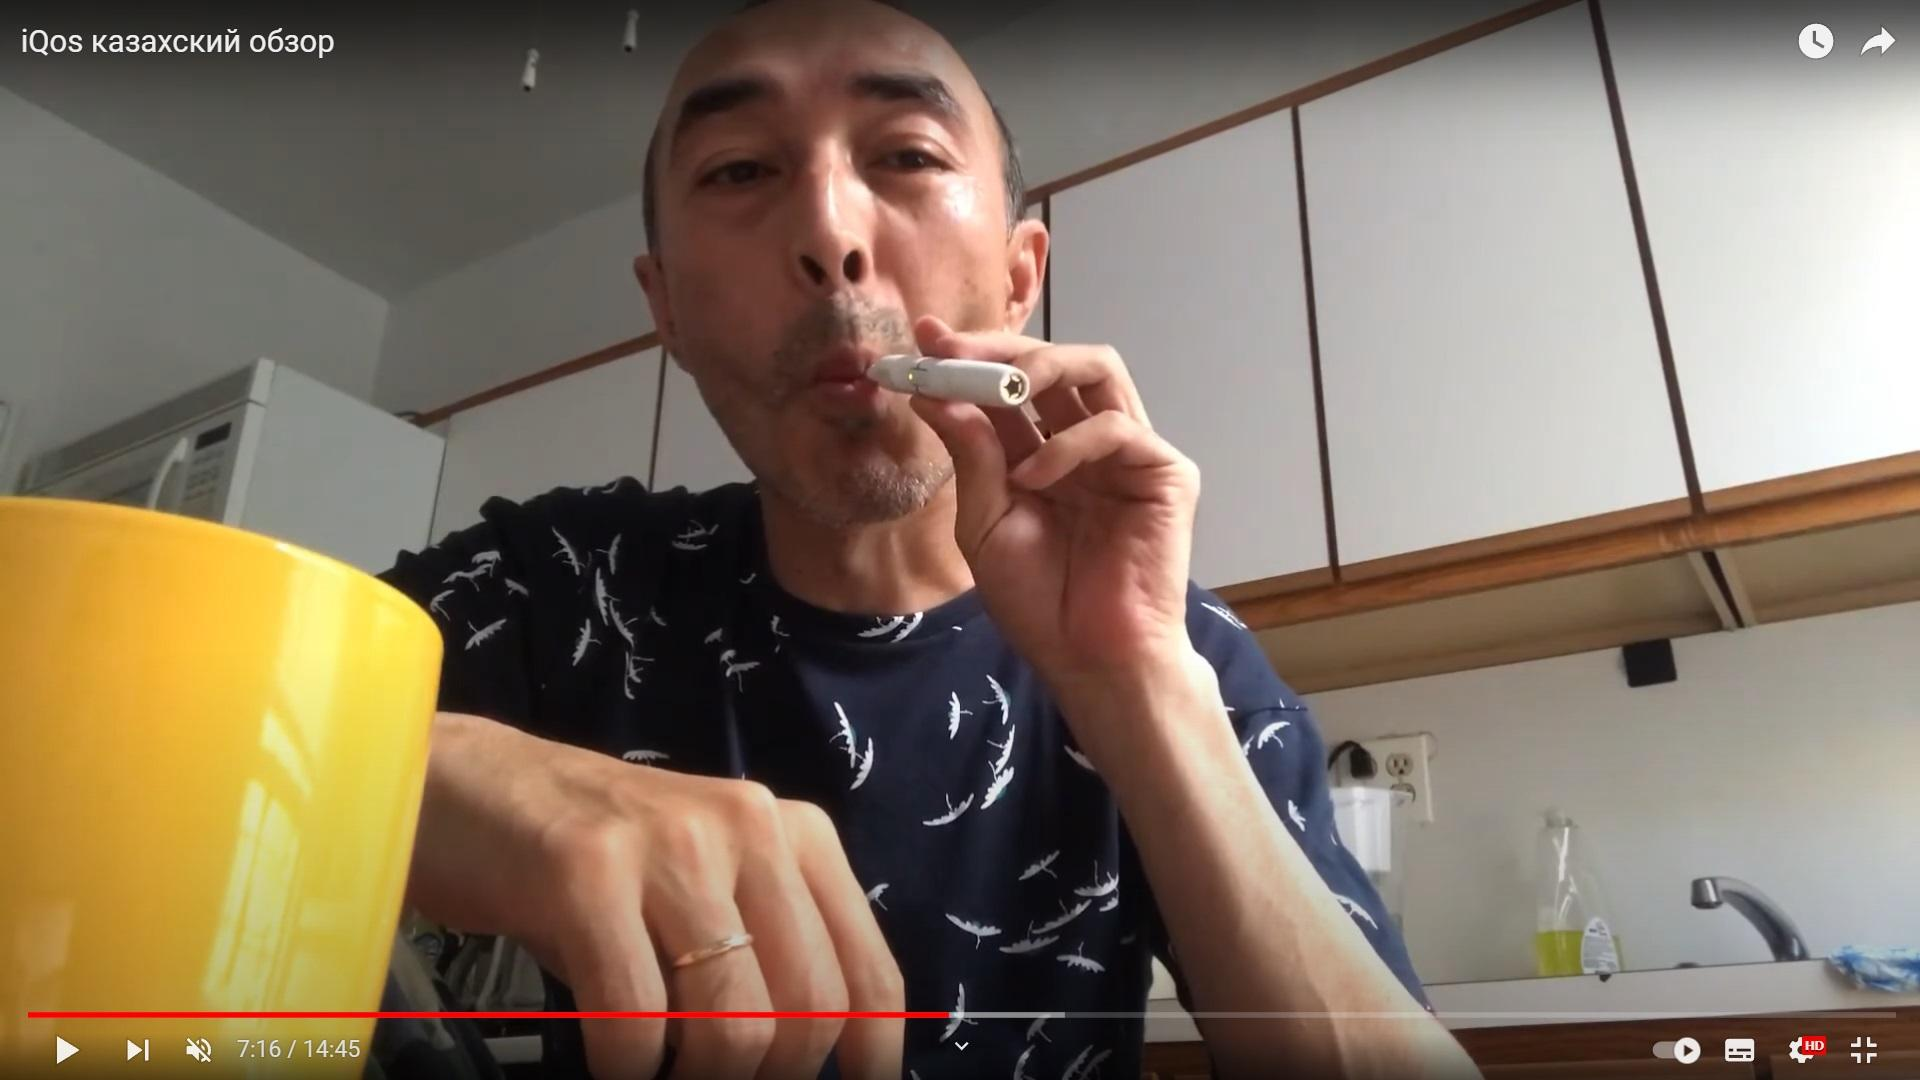iqos: (865, 353, 1030, 407)
